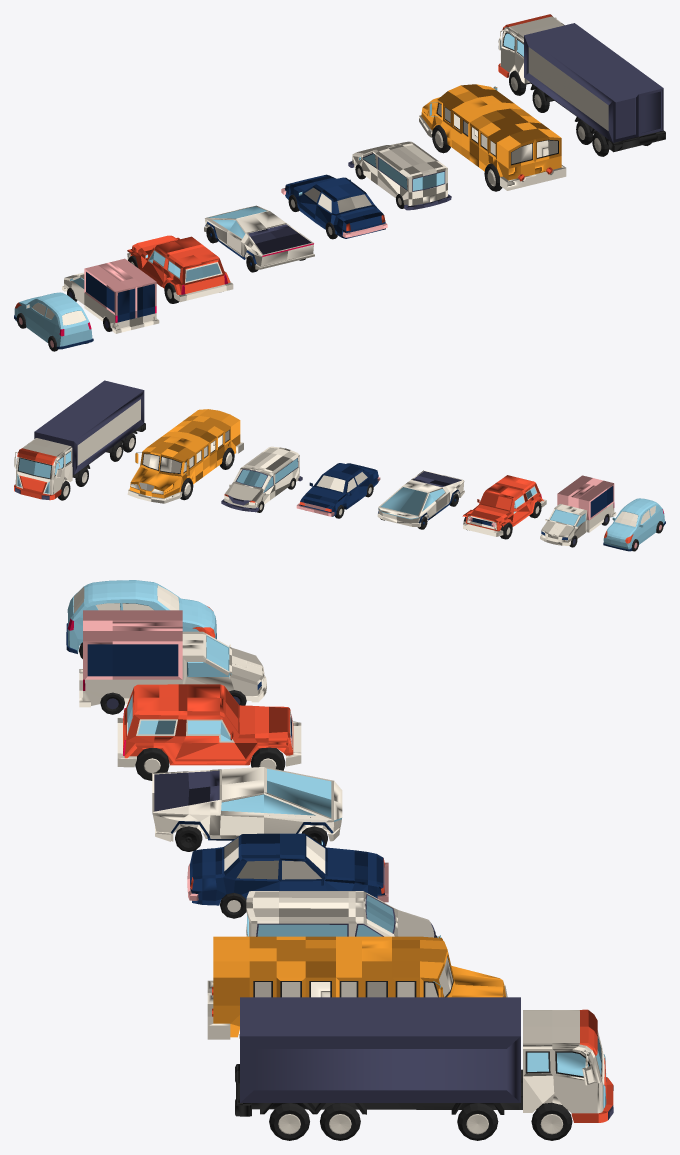
File: cars-fbx.fbx
The picture shows the model from 3 angles, top to bottom: view 1: azimuth 30°, elevation 25°; view 2: azimuth 150°, elevation 25°; view 3: azimuth 270°, elevation 25°; orthographic projection. The views are drawn at different scales.
Parts seen in each view (by area): view 1: box, body_2, body_6, body_3, Boole, body_5, body_4, body_7, car_cabin, body; view 2: body_2, box, body_6, body_3, Boole, body_5, car_cabin, body_4, body_7; view 3: box, body_2, body_6, Boole, body_5, body_4, car_cabin, body_3, body_7, body, tire2, tire3 (+3 smaller).
Boxes of the visible parts, x1,y1,x2,y2 form: box: (524, 23, 663, 142); body_2: (419, 84, 566, 190); body_6: (62, 258, 159, 333); body_3: (348, 141, 451, 210); Boole: (127, 235, 233, 302); body_5: (204, 205, 314, 269); body_4: (281, 174, 387, 238); body_7: (14, 292, 93, 349); car_cabin: (498, 14, 564, 83); body: (530, 82, 665, 152); body_2: (127, 409, 243, 503); box: (34, 380, 144, 474); body_6: (540, 475, 616, 545); body_3: (221, 446, 302, 512); Boole: (462, 475, 546, 536); body_5: (377, 470, 464, 527); car_cabin: (14, 438, 72, 500); body_4: (296, 463, 380, 516); body_7: (603, 498, 665, 551); box: (240, 997, 520, 1102); body_2: (207, 935, 507, 1039); body_6: (79, 610, 266, 707); Boole: (117, 684, 301, 767); body_5: (152, 767, 342, 841); body_4: (187, 833, 388, 905); car_cabin: (523, 1009, 613, 1122); body_3: (246, 891, 437, 937); body_7: (66, 580, 216, 653); body: (235, 1064, 562, 1116); tire2: (457, 1103, 498, 1140); tire3: (320, 1103, 360, 1140).
Bounding box in the file's own units: 3410 × 333 × 1540.
